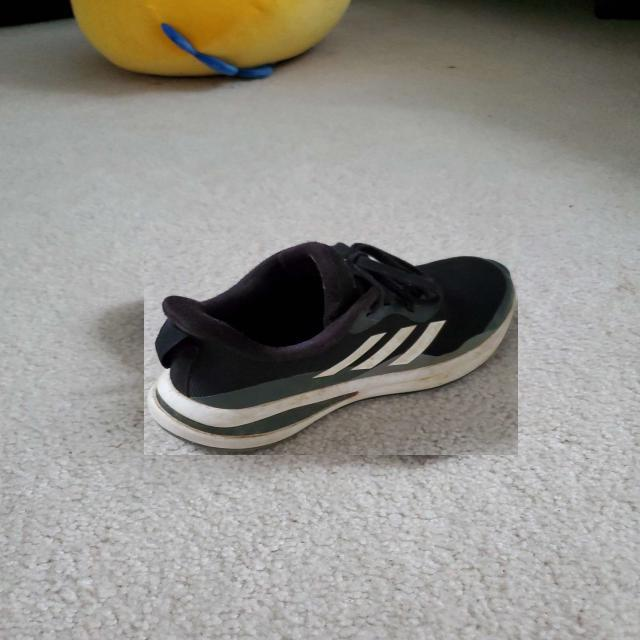shoe: (144, 240, 518, 455)
